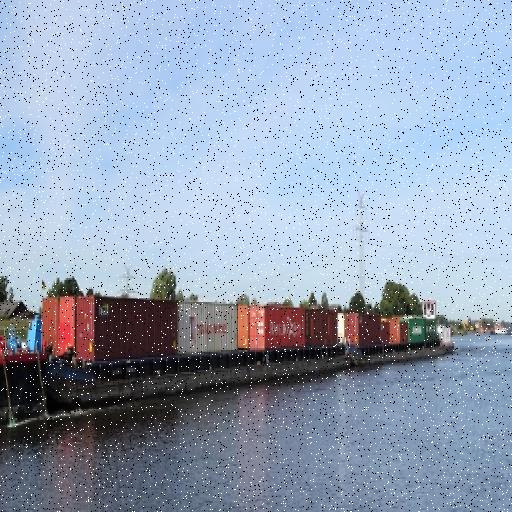tugboat: (419, 296, 458, 369)
